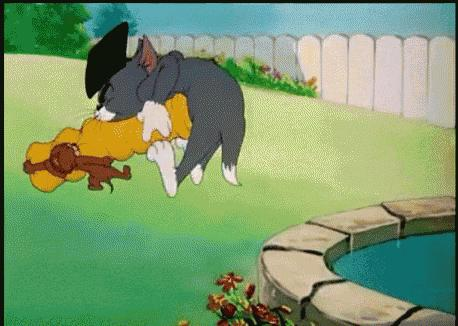jerry: (22, 141, 134, 195)
